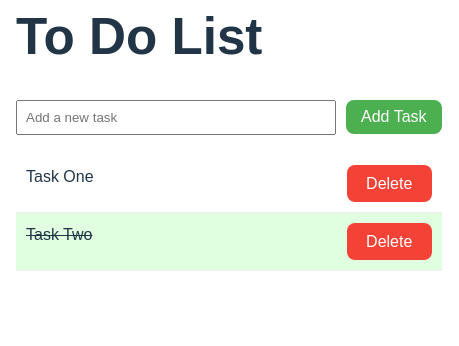
it: App Component › adds a new task when TaskForm submits
Check: the text "Task One" is shown, box top-left (26, 168), bottom-right (94, 185)
Note: Simulate user typing and submitting a new task
Type "New Task" into the field with placeholder "Add a new task" at (176, 117), box top-left (16, 100), bottom-right (336, 135)
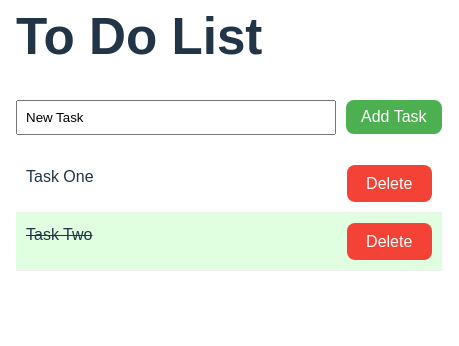
Click the button "Add Task" at (394, 117), box top-left (346, 100), bottom-right (442, 134)
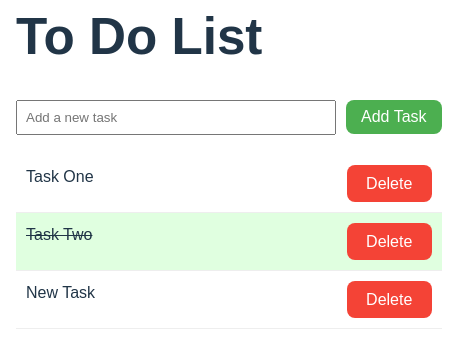
Check: the text "New Task" is shown, box top-left (26, 284), bottom-right (95, 301)
